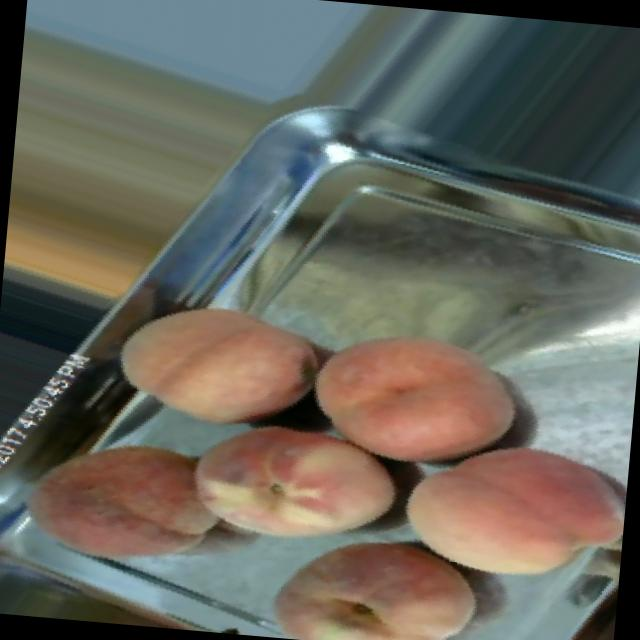Fruit: (0, 5, 301, 354), (376, 406, 632, 614), (0, 398, 251, 601), (87, 262, 347, 453), (165, 402, 418, 582), (291, 298, 544, 472), (244, 513, 502, 640)
